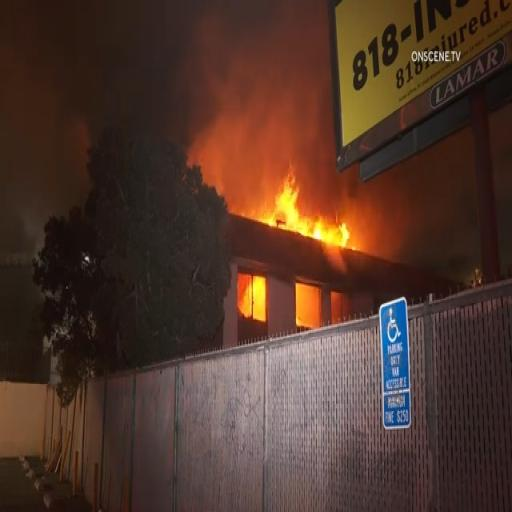fire: (270, 163, 301, 233), (299, 220, 347, 250)
